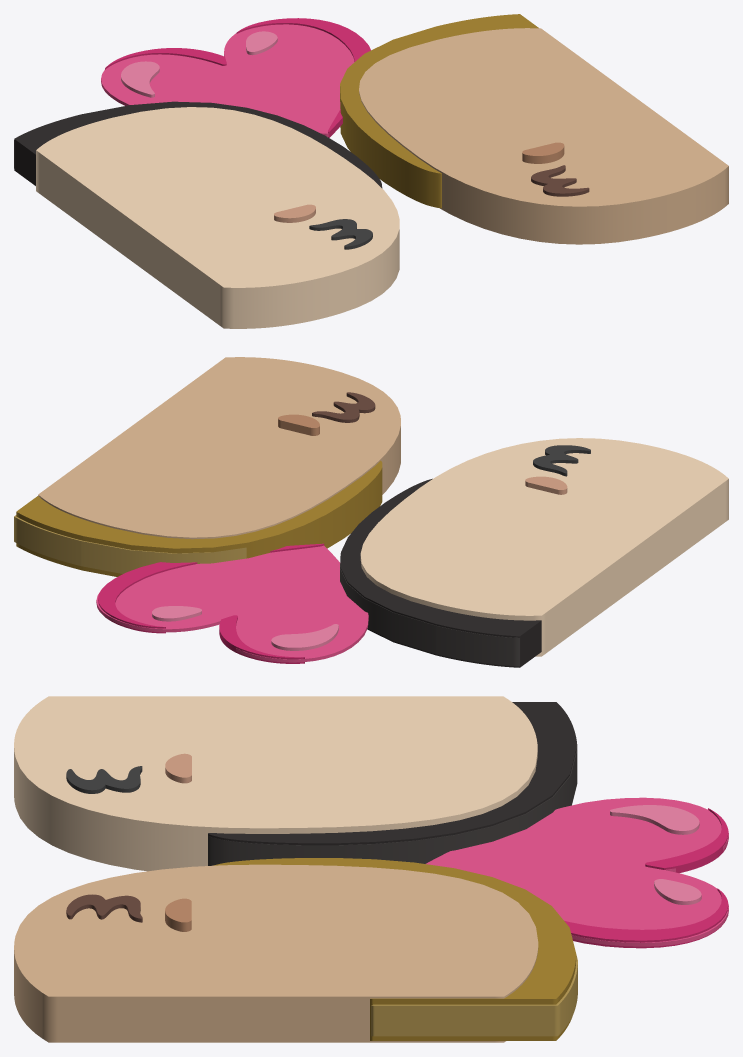
The model's file is emoji_u1f468_1f3fb_200d_2764_200d_1f48b_200d_1f468_1f3fc.glb.
3 views of the same model, one above another, from view 1: azimuth 30°, elevation 25°; view 2: azimuth 150°, elevation 25°; view 3: azimuth 270°, elevation 25° (orthographic). The views are drawn at different scales.
Visible parts, largest first — view 1: emoji_u1f468_1f3fb_200d_2764_200d_1f48b_200d_1f468_1f3fc; view 2: emoji_u1f468_1f3fb_200d_2764_200d_1f48b_200d_1f468_1f3fc; view 3: emoji_u1f468_1f3fb_200d_2764_200d_1f48b_200d_1f468_1f3fc.
Boxes of the visible parts, bbox=[...] form: emoji_u1f468_1f3fb_200d_2764_200d_1f48b_200d_1f468_1f3fc: bbox=[14, 14, 728, 328]; emoji_u1f468_1f3fb_200d_2764_200d_1f48b_200d_1f468_1f3fc: bbox=[14, 357, 728, 667]; emoji_u1f468_1f3fb_200d_2764_200d_1f48b_200d_1f468_1f3fc: bbox=[14, 696, 728, 1042].
Size of the model in its own units: 0.0336 by 0.0034 by 0.0339.
